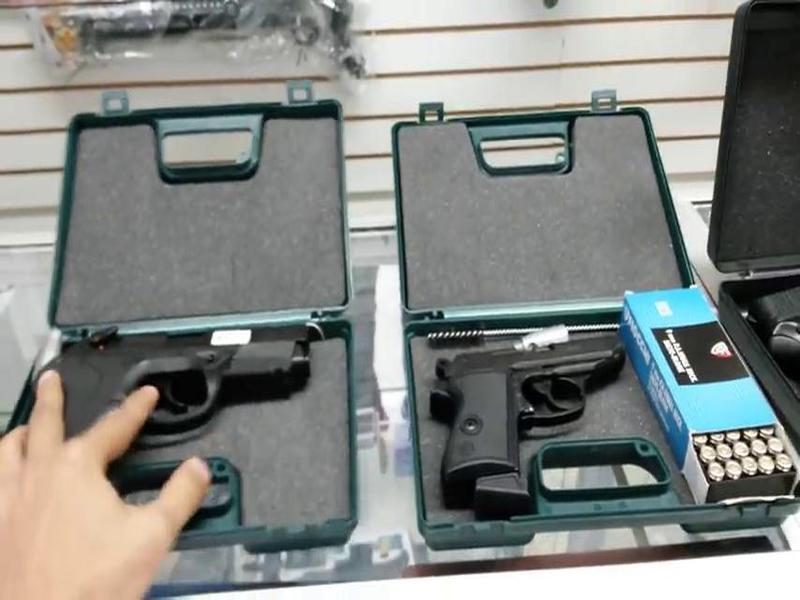Pistola: (35, 315, 328, 514), (407, 318, 642, 525)
